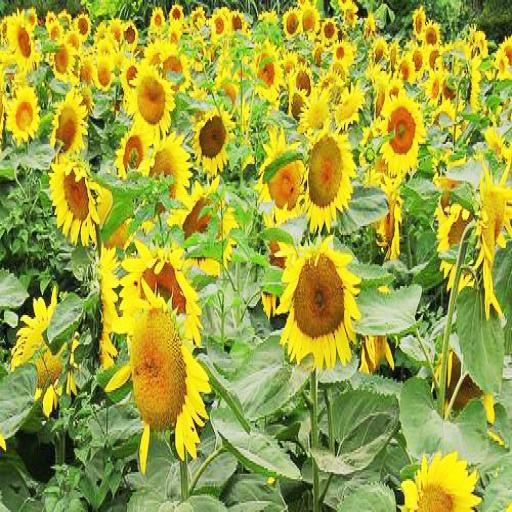sunflower: (126, 306, 210, 463), (282, 248, 358, 364), (133, 242, 205, 339), (474, 160, 512, 316), (305, 126, 355, 231), (400, 448, 480, 512), (48, 160, 106, 242), (438, 190, 480, 294), (261, 126, 307, 210), (378, 98, 424, 178), (44, 88, 89, 162), (150, 137, 192, 211), (130, 66, 175, 131), (194, 107, 232, 175), (7, 12, 40, 76), (116, 128, 154, 182), (6, 84, 40, 142), (253, 48, 282, 100), (288, 88, 311, 122), (300, 6, 320, 40), (209, 9, 230, 40), (94, 60, 114, 89), (495, 48, 509, 80), (168, 4, 185, 27)
